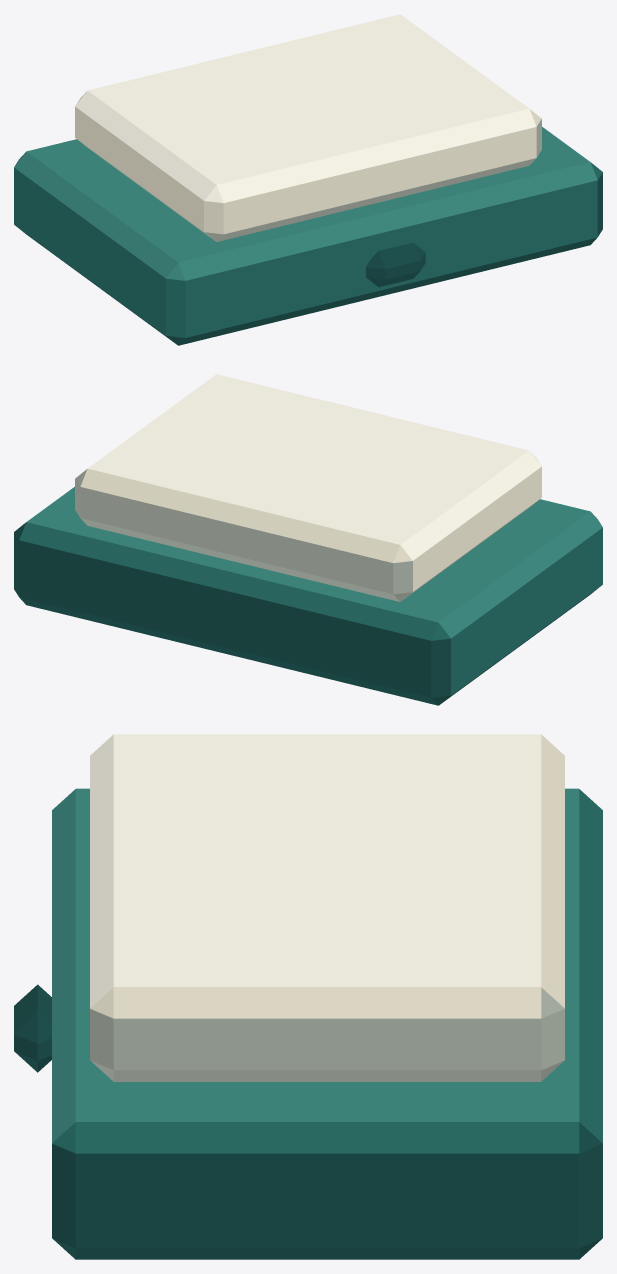
Rendered from Plate.gltf.
3 views of the same model, one above another, from view 1: azimuth 30°, elevation 25°; view 2: azimuth 150°, elevation 25°; view 3: azimuth 270°, elevation 25° (orthographic). The views are drawn at different scales.
Visible parts, largest first — view 1: Plate_baked; view 2: Plate_baked; view 3: Plate_baked.
Part boxes in pixels (bbox=[...]): Plate_baked: bbox=[14, 14, 602, 345]; Plate_baked: bbox=[14, 374, 602, 705]; Plate_baked: bbox=[14, 734, 602, 1259].
Bounding box in the file's own units: 0.88 × 0.27 × 0.62.
